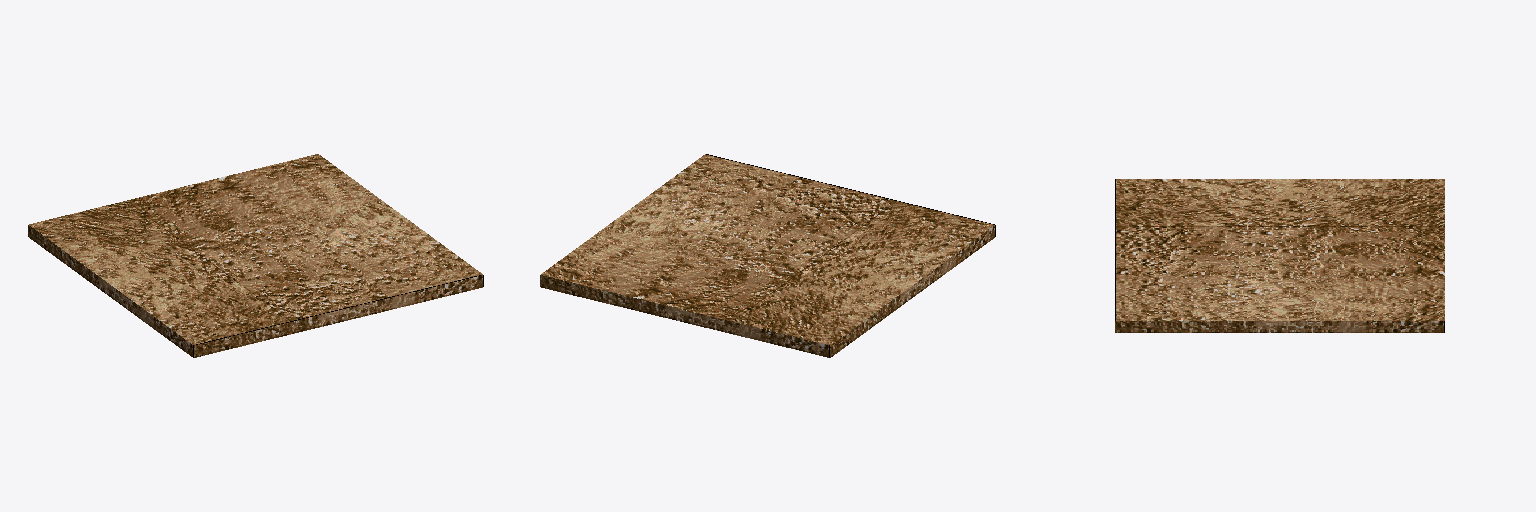
The picture shows the model from 3 angles: view 1: azimuth 30°, elevation 25°; view 2: azimuth 150°, elevation 25°; view 3: azimuth 270°, elevation 25°; orthographic projection.
Parts seen in each view (by area): view 1: Mesh_0002-GRP-8274-BG; view 2: Mesh_0002-GRP-8274-BG; view 3: Mesh_0002-GRP-8274-BG.
Part boxes in pixels (left/top/right/bottom): Mesh_0002-GRP-8274-BG: left=28, top=154, right=483, bottom=357; Mesh_0002-GRP-8274-BG: left=540, top=154, right=995, bottom=357; Mesh_0002-GRP-8274-BG: left=1115, top=179, right=1444, bottom=332.
Size of the model in its own units: 49408 by 2044 by 48784.
1 materials, 1 textured.